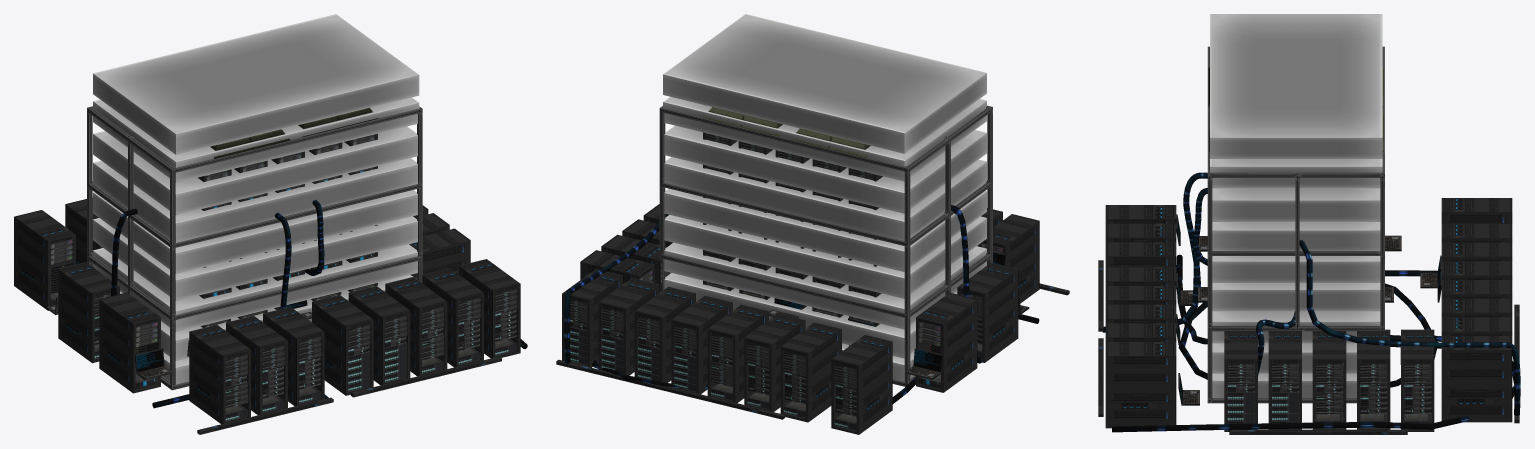
File: propagandaserver.DAE
3 renders of one model, left to right at view 1: azimuth 30°, elevation 25°; view 2: azimuth 150°, elevation 25°; view 3: azimuth 270°, elevation 25°, orthographic. The views are drawn at different scales.
Parts seen in each view (by area): view 1: Icon, Servers, Cable, Industrial_Fan_4, Industrial_Fan_1; view 2: Icon, Servers, Cable, Industrial_Fan_3, Industrial_Fan_2; view 3: Servers, Icon, Cable.
Boxes of the visible parts, x1,y1,x2,y2 form: Icon: (93,14,419,384); Servers: (14,106,520,434); Cable: (110,199,527,408); Industrial_Fan_4: (210,129,290,158); Industrial_Fan_1: (298,107,378,137); Icon: (663,14,986,381); Servers: (556,105,1069,434); Cable: (564,205,1039,403); Industrial_Fan_3: (791,128,870,157); Industrial_Fan_2: (703,107,782,136); Servers: (1098,46,1519,434); Icon: (1210,14,1382,398); Cable: (1102,172,1520,432).
Size of the model in its own units: 3361 by 2385 by 3417.
